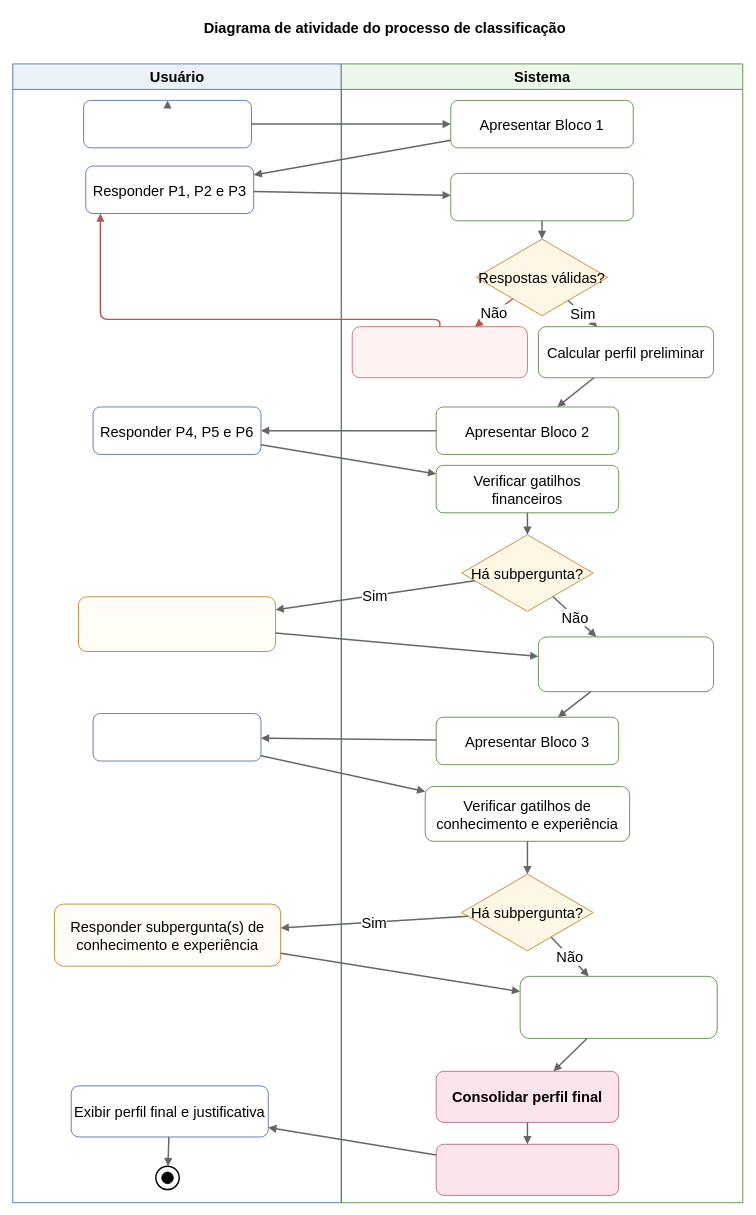
Some shapes in this 756 by 1215 pixel diagram are drawn without their labels. The centre of each missing label's shape, as x and y in pixels:
Acessar o protótipo: point 167,124
Definir limite financeiro: point 626,664
Definir limite por conhecimento e experiência: point 618,1007
Gerar justificativa textual: point 527,1169
Informar pendência de preenchimento: point 439,352
Responder P7, P8 e P9: point 176,737
Responder subpergunta(s) financeira(s): point 177,624
Validar respostas do Bloco 1: point 541,197
